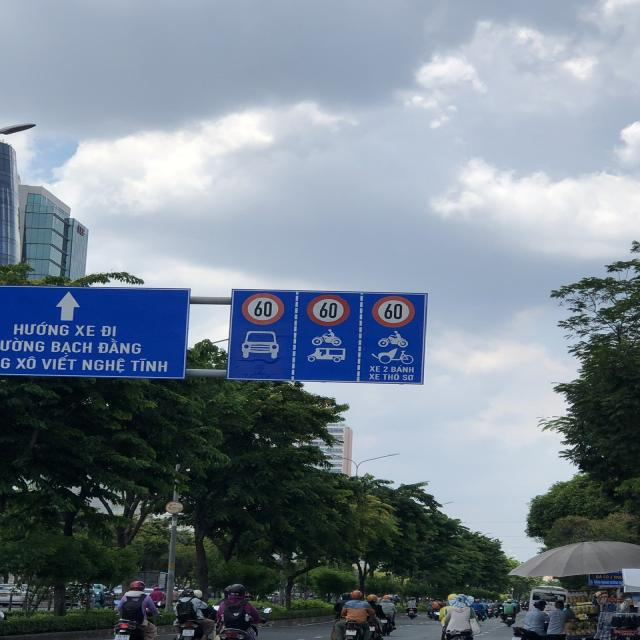Bien bao toc do toi da cho phep: (239, 284, 289, 328), (304, 289, 352, 332), (370, 290, 418, 331)
